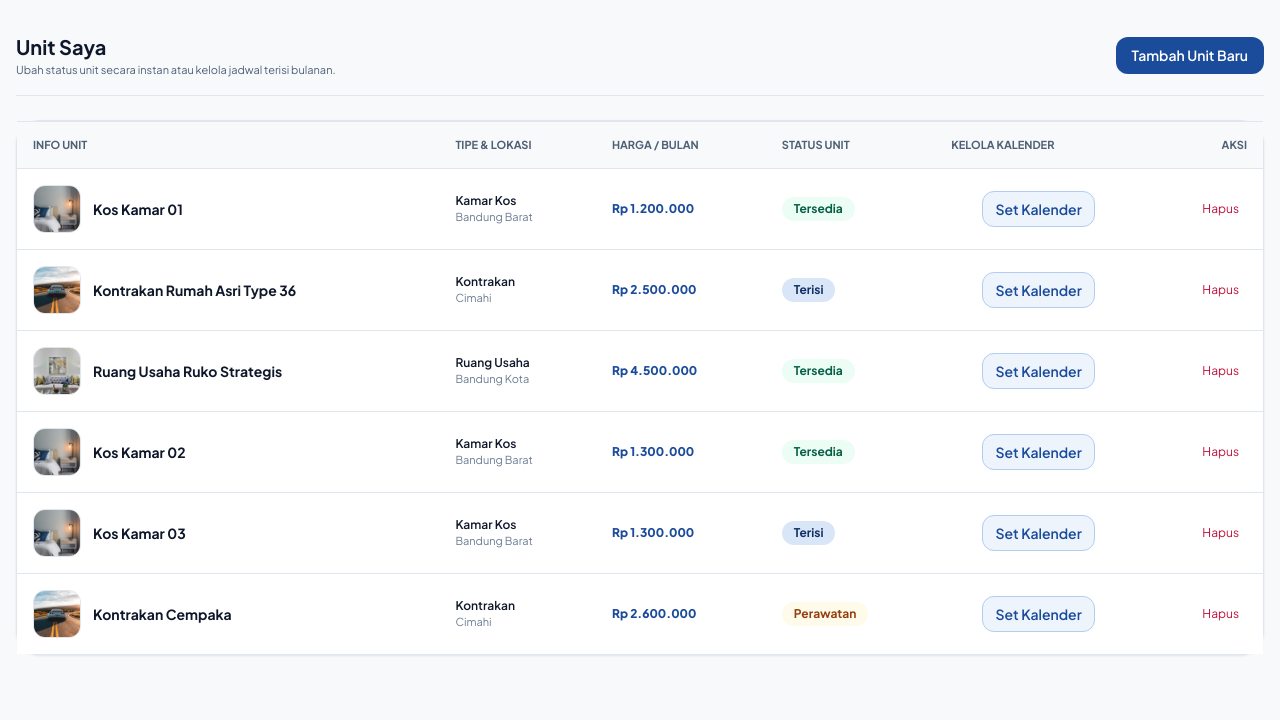
Test: UnitListPage › menghapus unit hanya setelah disetujui, dan batal tidak mengubah apa pun
What coordinates should you click on to do the following:
click the button "Hapus" in the row of "Kontrakan Rumah Asri Type 36"
I would click on:
 (1221, 290)
Its box is [1194, 274, 1247, 306].
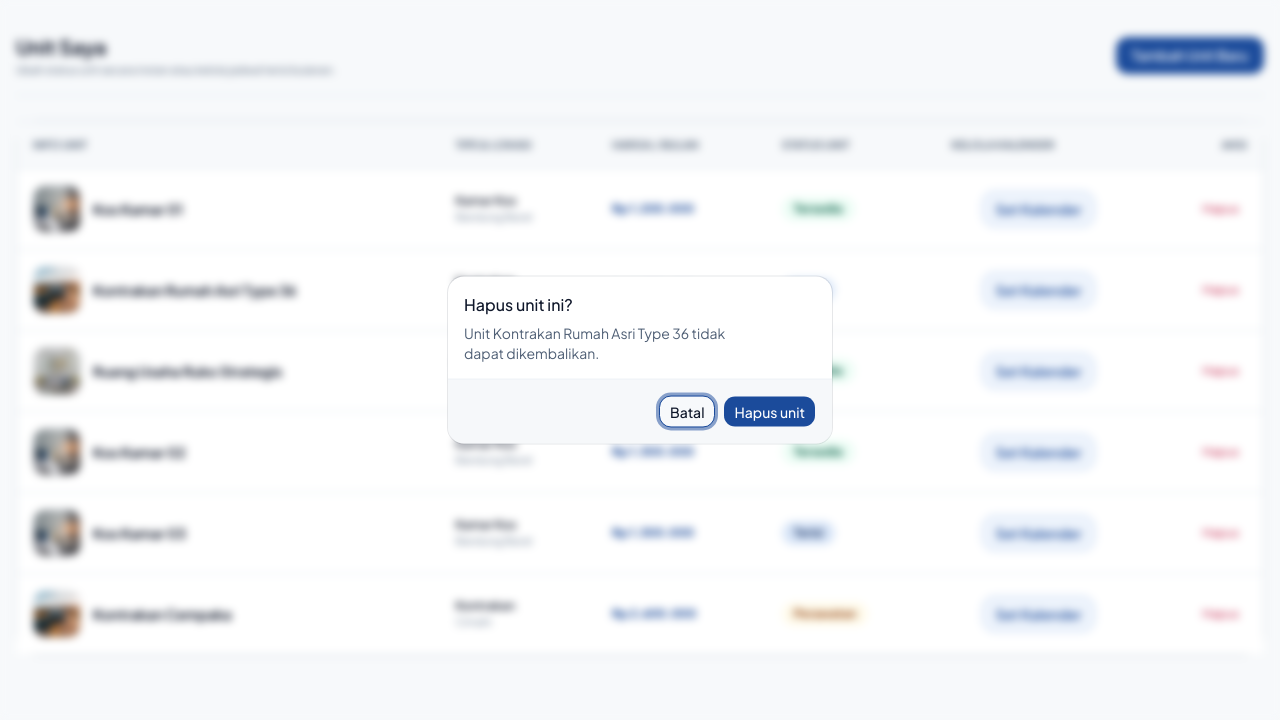
What coordinates should you click on to do the following:
click the button "Batal"
I would click on:
 (687, 412)
Its box is [659, 396, 716, 428].
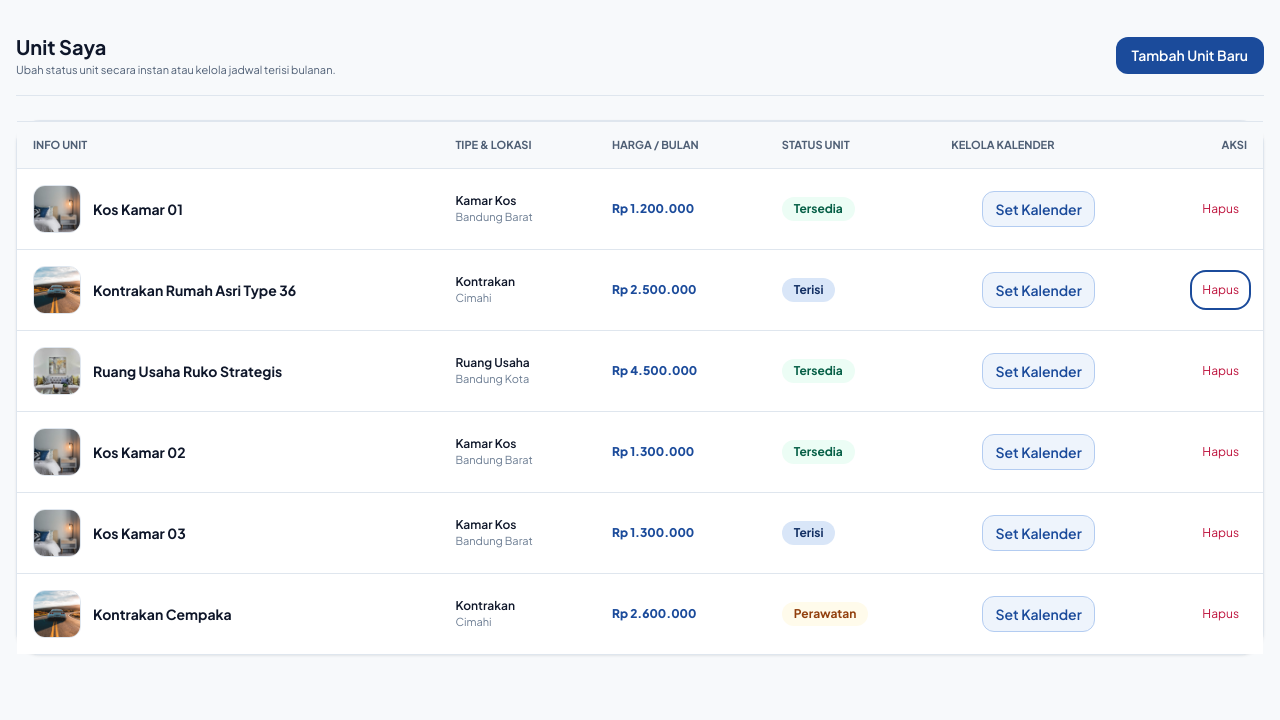
Check: the text "Kontrakan Rumah Asri Type 36" is shown, box [93, 281, 296, 300]
What coordinates should you click on to do the following:
click the button "Hapus" in the row of "Kontrakan Rumah Asri Type 36"
I would click on:
 (1221, 290)
Its box is [1194, 274, 1247, 306].
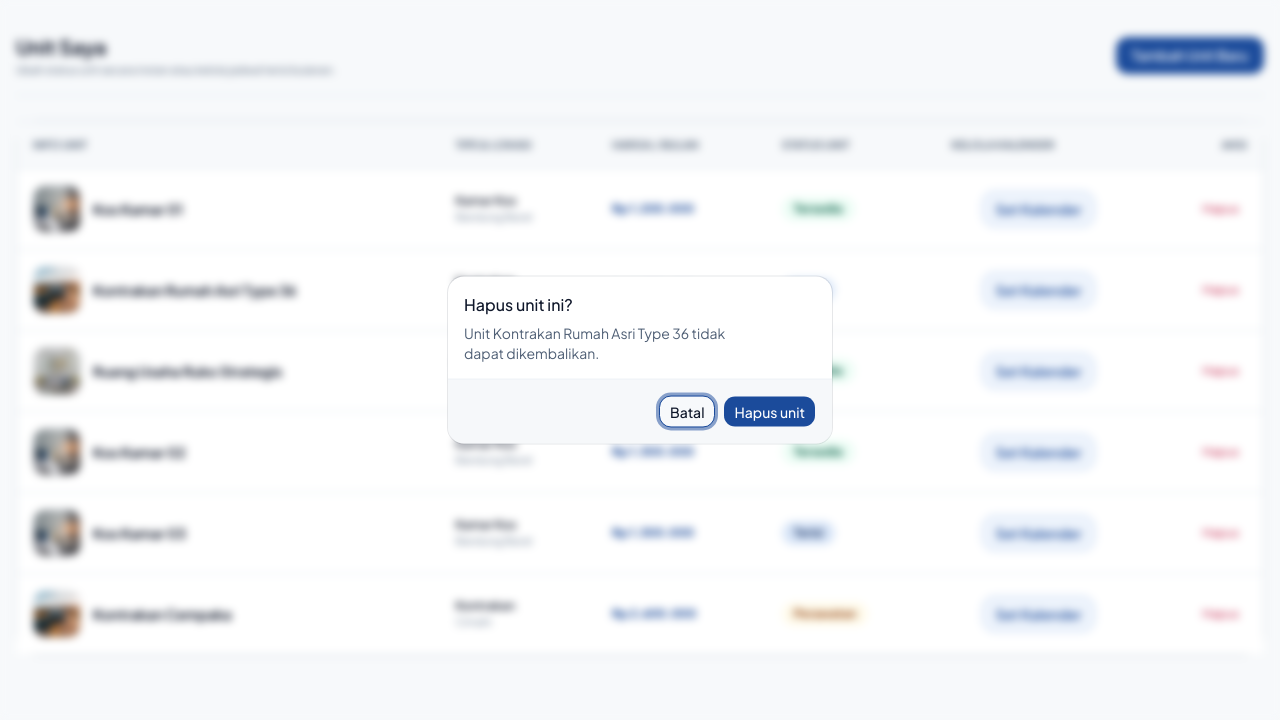
What coordinates should you click on to do the following:
click the button "Hapus unit"
I would click on:
 (770, 412)
Its box is [724, 396, 816, 428].
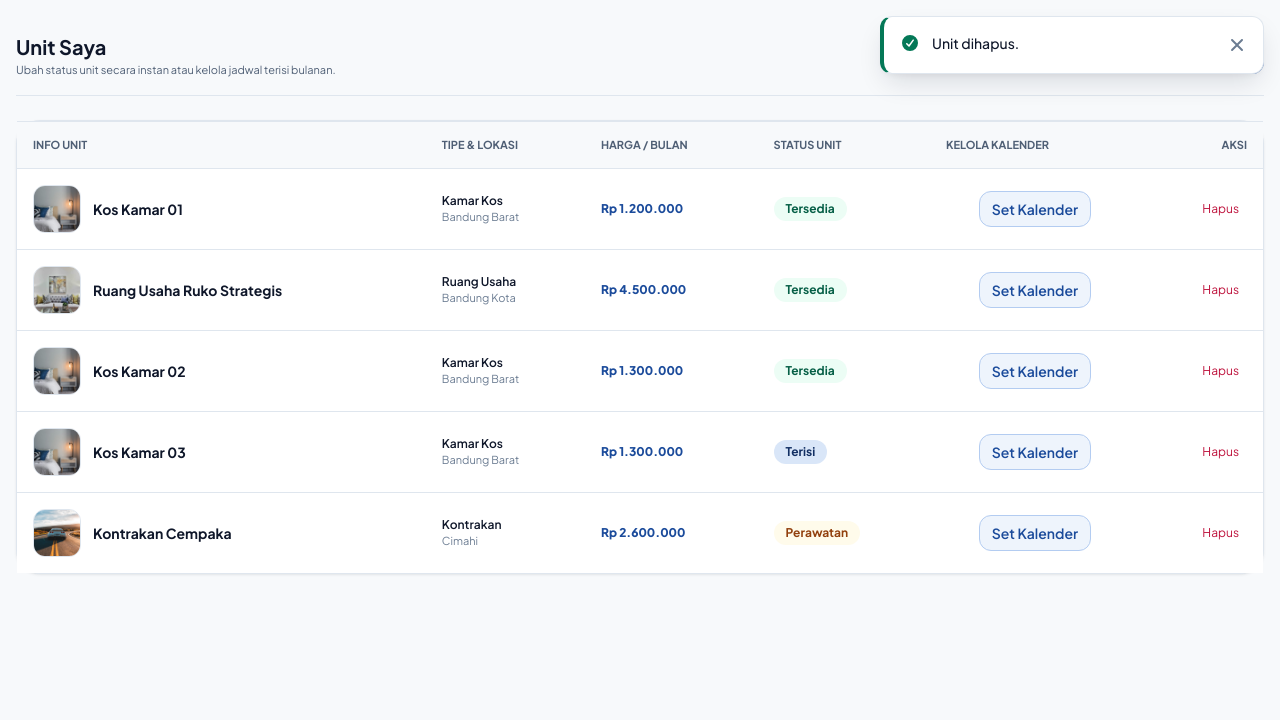
Check: the text "Kontrakan Rumah Asri Type 36" is gone
